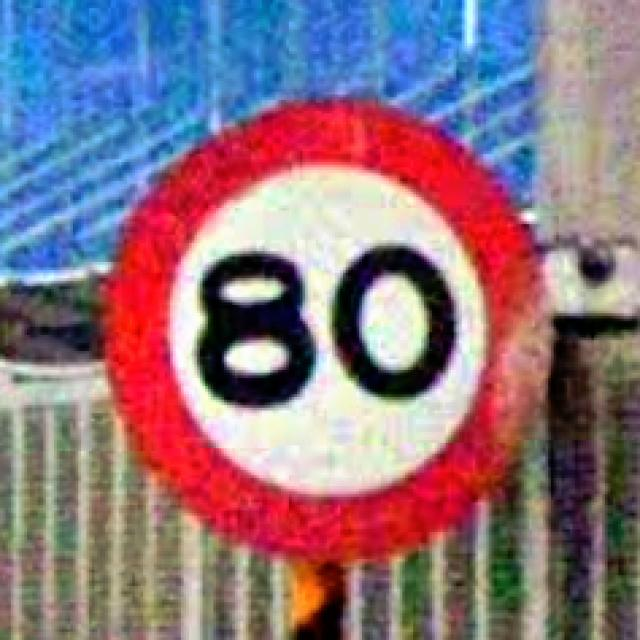max80: (94, 89, 556, 567)
